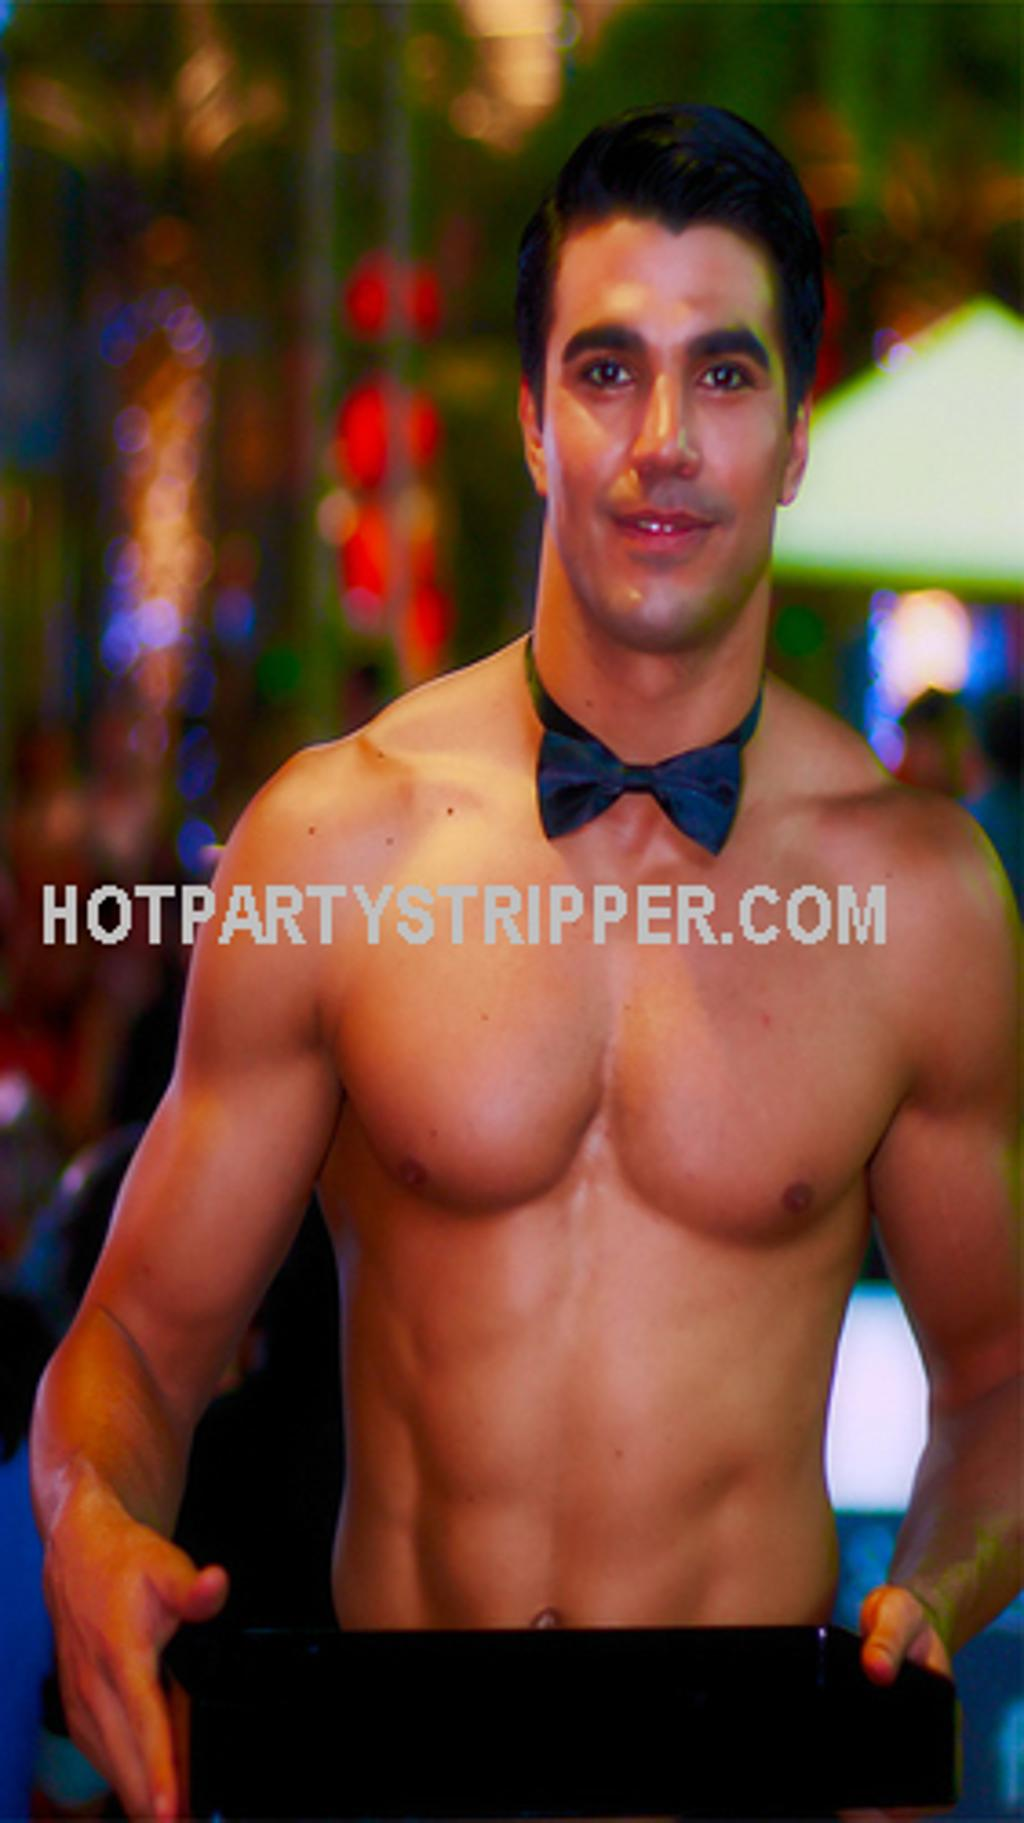face: (537, 213, 793, 643)
